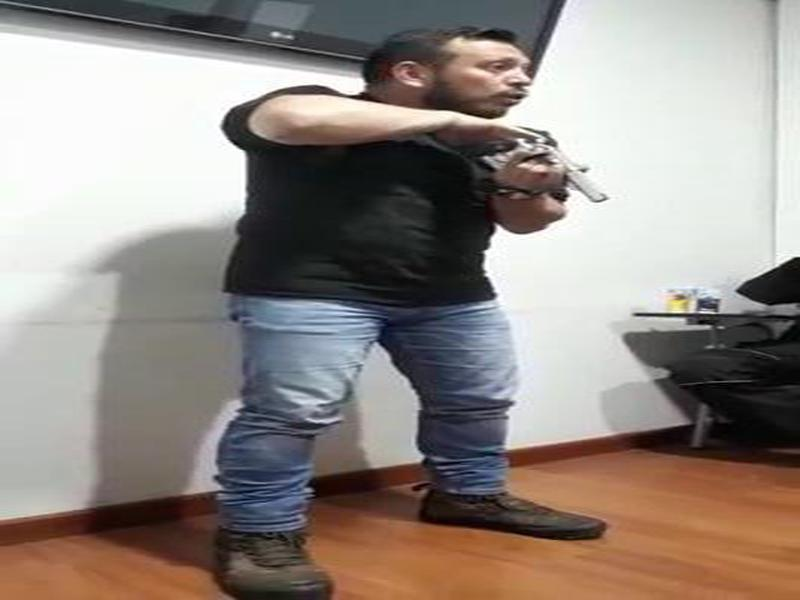Revolver: (478, 110, 621, 224)
